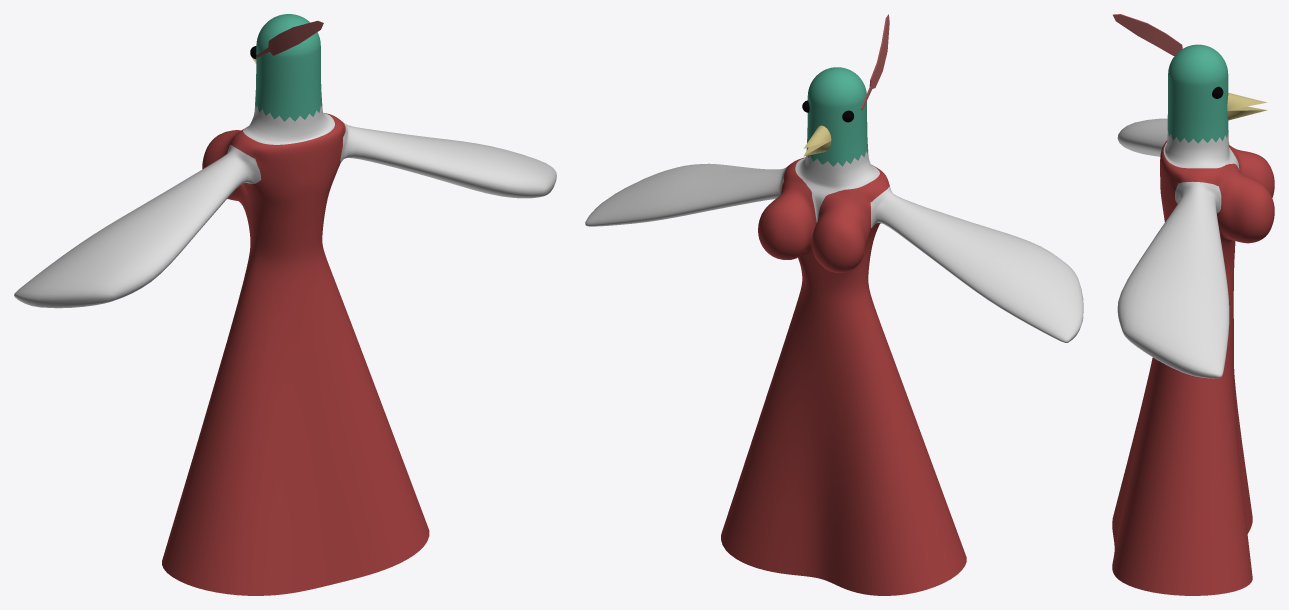
Rendered from pigeonwithtitties.fbx.
3 renders of one model, left to right at view 1: azimuth 30°, elevation 25°; view 2: azimuth 150°, elevation 25°; view 3: azimuth 270°, elevation 25°, orthographic. The views are drawn at different scales.
Parts seen in each view (by area): view 1: pSphere3, pCube1; view 2: pSphere3, pCube1; view 3: pSphere3, pCube1, pCone1.
Part boxes in pixels (x1=…): pSphere3: x1=14, y1=14, x2=556, y2=595; pCube1: x1=256, y1=20, x2=323, y2=57; pSphere3: x1=585, y1=67, x2=1083, y2=595; pCube1: x1=861, y1=14, x2=889, y2=109; pSphere3: x1=1112, y1=44, x2=1274, y2=595; pCube1: x1=1113, y1=14, x2=1182, y2=55; pCone1: x1=1227, y1=93, x2=1267, y2=120.
Size of the model in its own units: 18.62 by 19.16 by 5.29.
